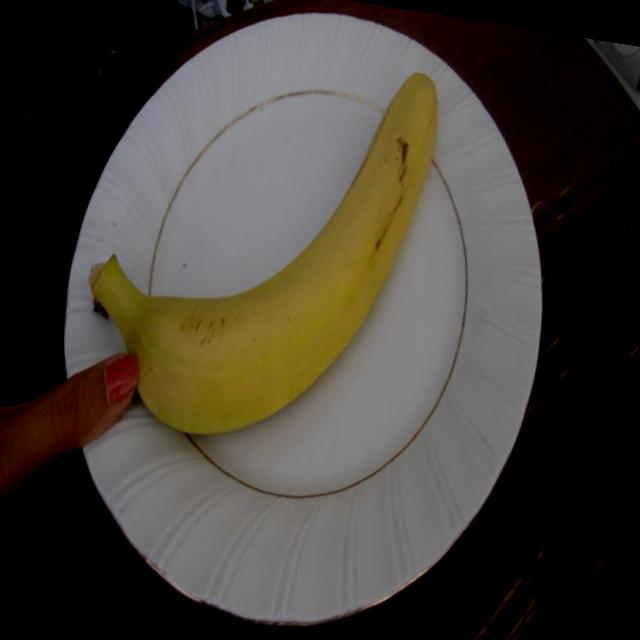Banana: (64, 24, 455, 476)
Finger: (32, 339, 154, 476)
